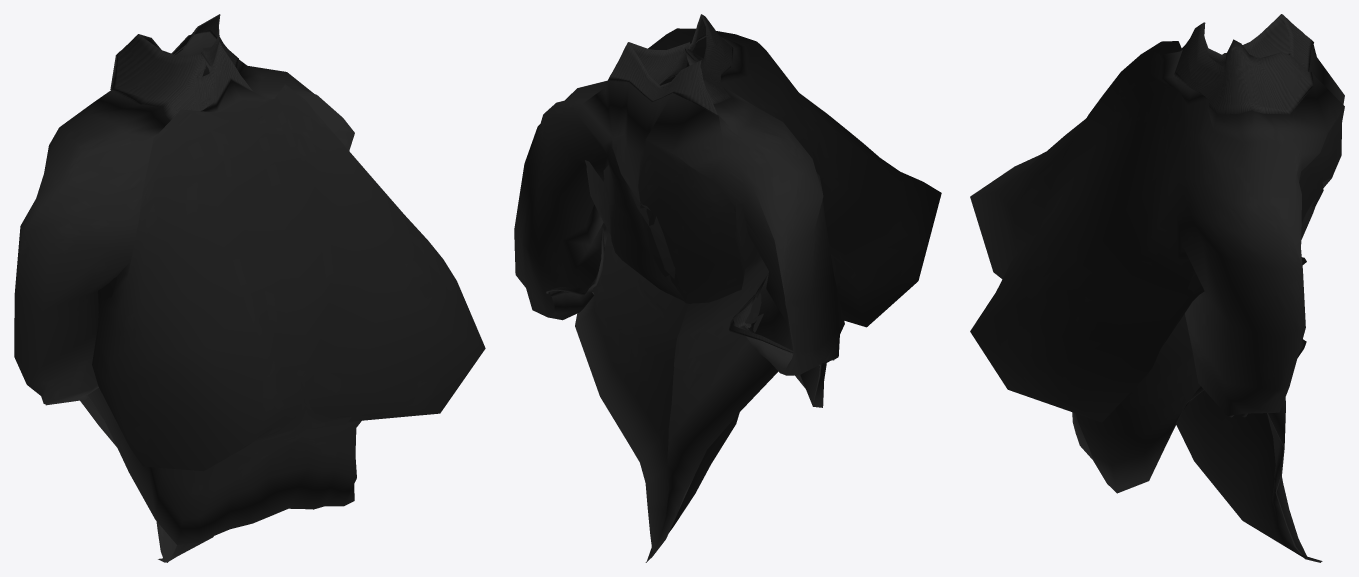
Rendered from tee-black.glb.
3 renders of one model, left to right at view 1: azimuth 30°, elevation 25°; view 2: azimuth 150°, elevation 25°; view 3: azimuth 270°, elevation 25°, orthographic. The views are drawn at different scales.
Visible parts, largest first — view 1: tee-black; view 2: tee-black; view 3: tee-black.
Boxes of the visible parts, x1,y1,x2,y2 form: tee-black: (14, 14, 485, 562); tee-black: (514, 14, 941, 562); tee-black: (970, 14, 1344, 562).
Size of the model in its own units: 0.2567 by 0.3997 by 0.2514.
1 material, 1 textured.
